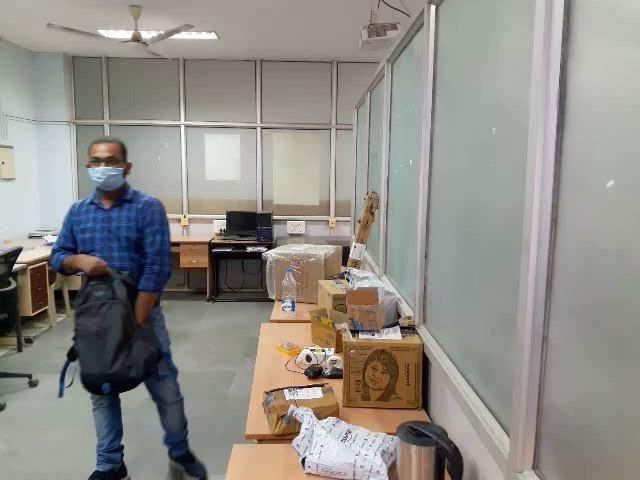shoplifting: (2, 231, 198, 480)
